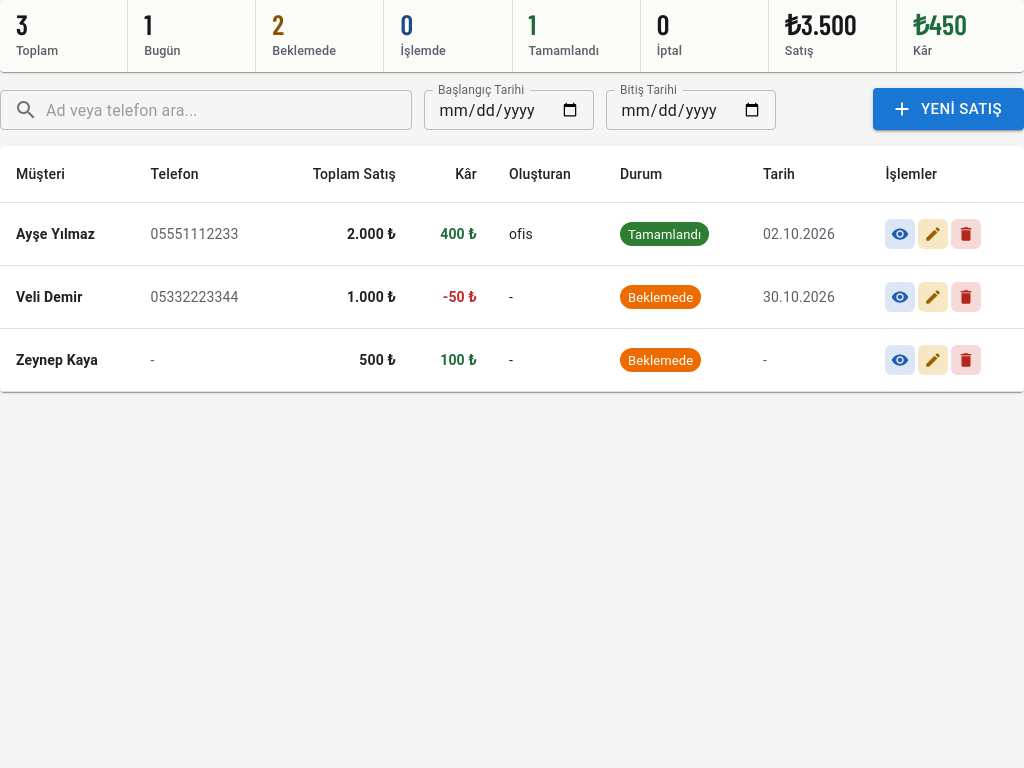
Scenario: Aksesuarlar: detay penceresi › ödeme tamamlanmışsa "Ödeme Tamamlandı ✓" yazar; Düzenle detayı kapatıp formu açar
The width and height of the screenshot is (1024, 768).
Expected: the text "Zeynep Kaya" is shown, [0,329,134,392]
Click the button with test id "VisibilityIcon" at point(900, 234), box [886,219,916,249]
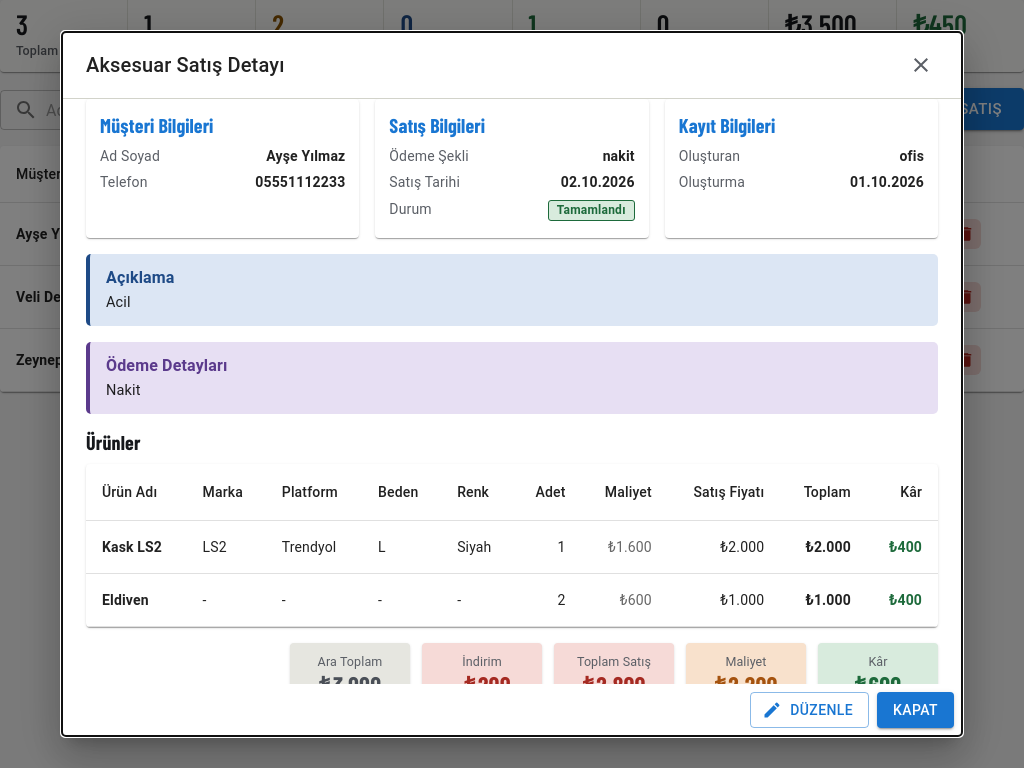
Click the button "Düzenle" at point(810, 710), box [750,692,869,728]
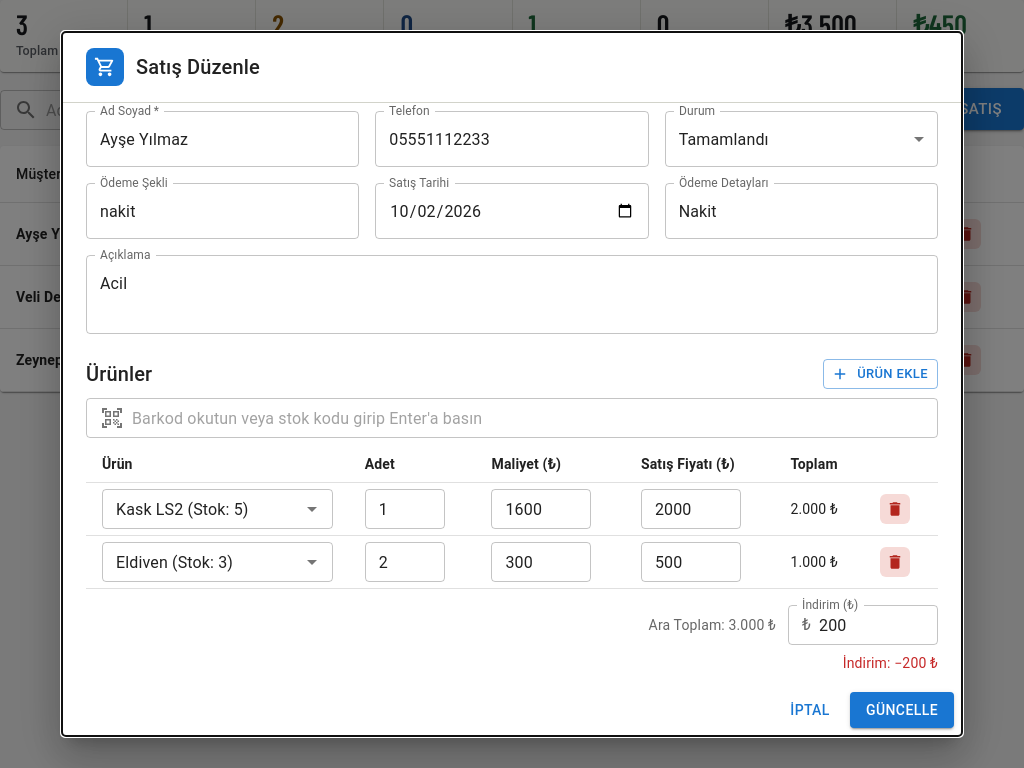
Result: the text "Satış Düzenle" is shown at [136,55,260,79]
Result: the dropdown labelled "Ad Soyad *" holds "Ayşe Yılmaz" at [95,120,320,158]
